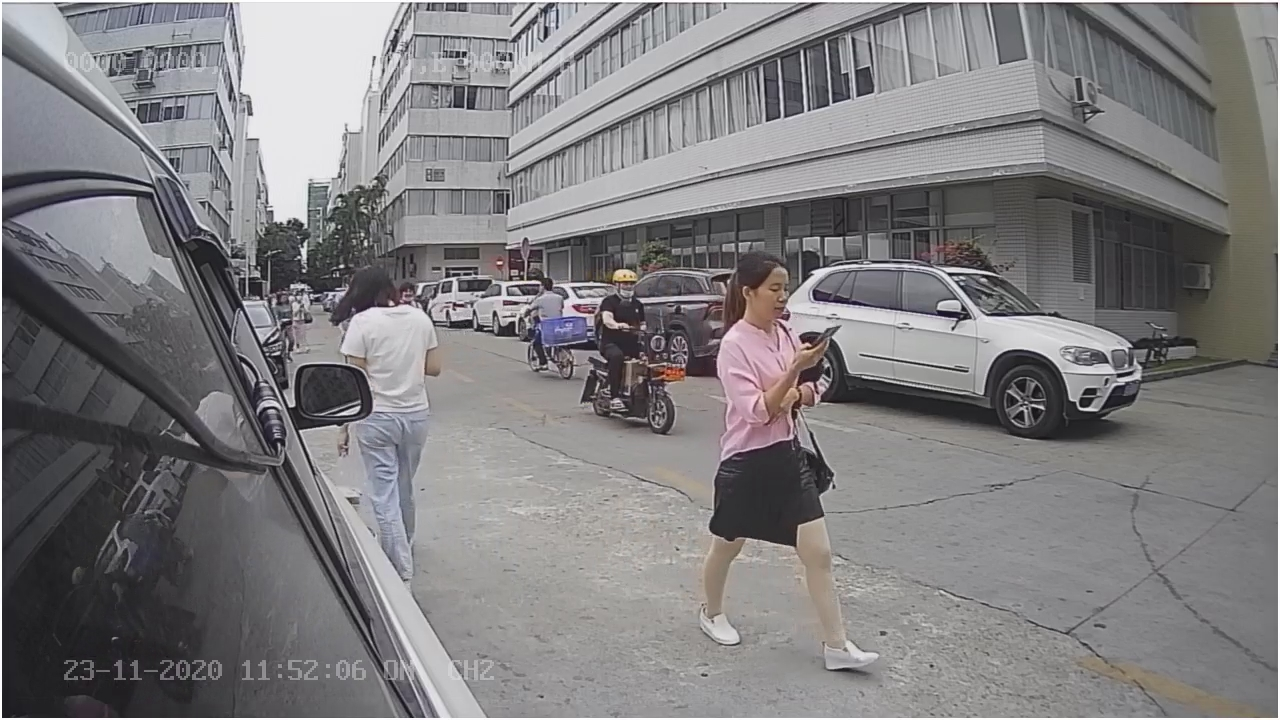person: (691, 251, 881, 671), (326, 261, 447, 366)
